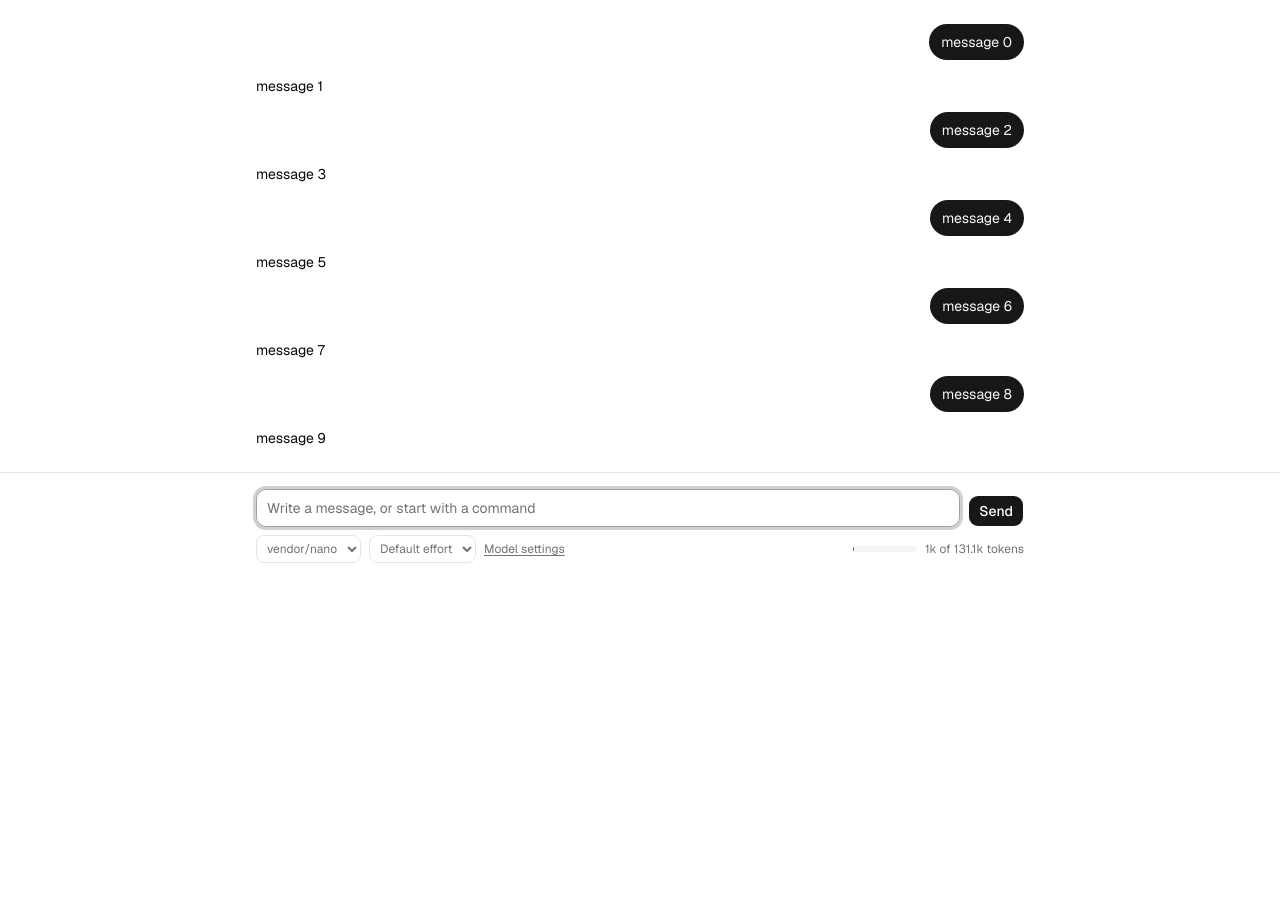
Test: the compact suggestion › appears after the notice, never blocks sending, and starts /compact
Expected: the text "message 9" is shown, [256,428,326,448]
Type "more" into the text box labelled "message" at (608, 508), box [256,489,960,527]
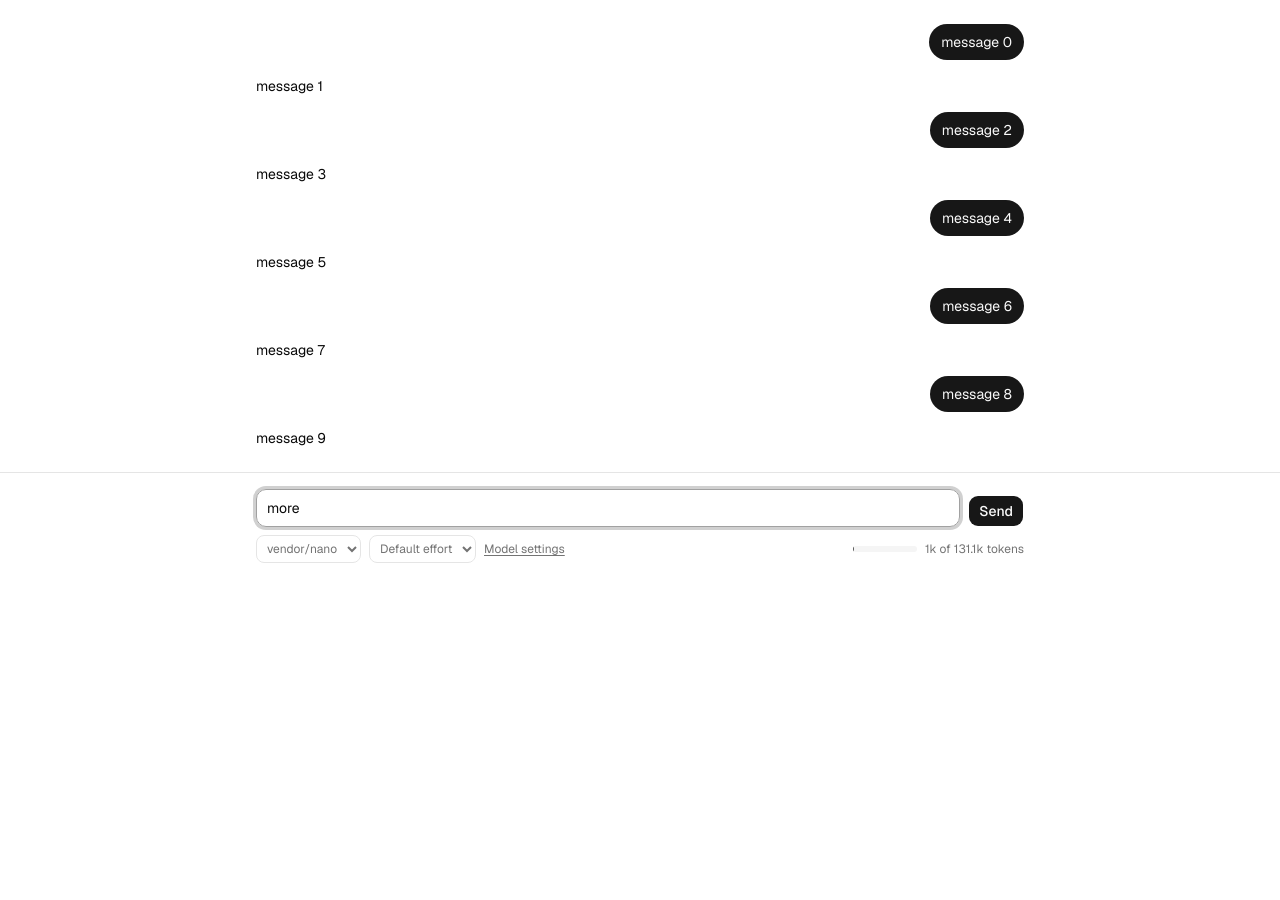
Click the button "Send" at (996, 511), box [968,495,1024,527]
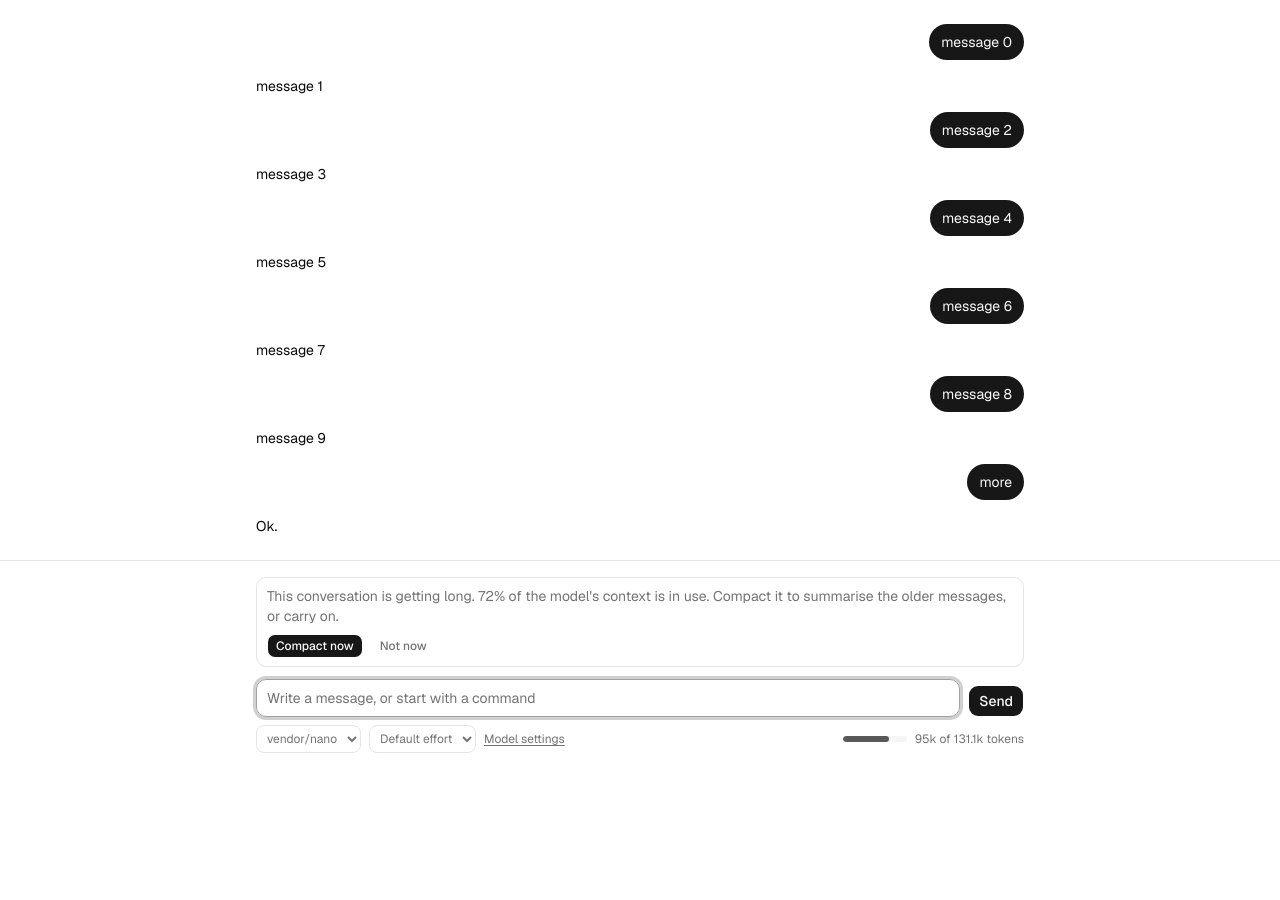
Expected: the text box labelled "message" is enabled, [256,679,960,717]
Expected: the text "This conversation is getting long. 72%" is shown, [267,586,1013,626]
Click the button "Compact now" at (315, 646), box [267,634,363,658]
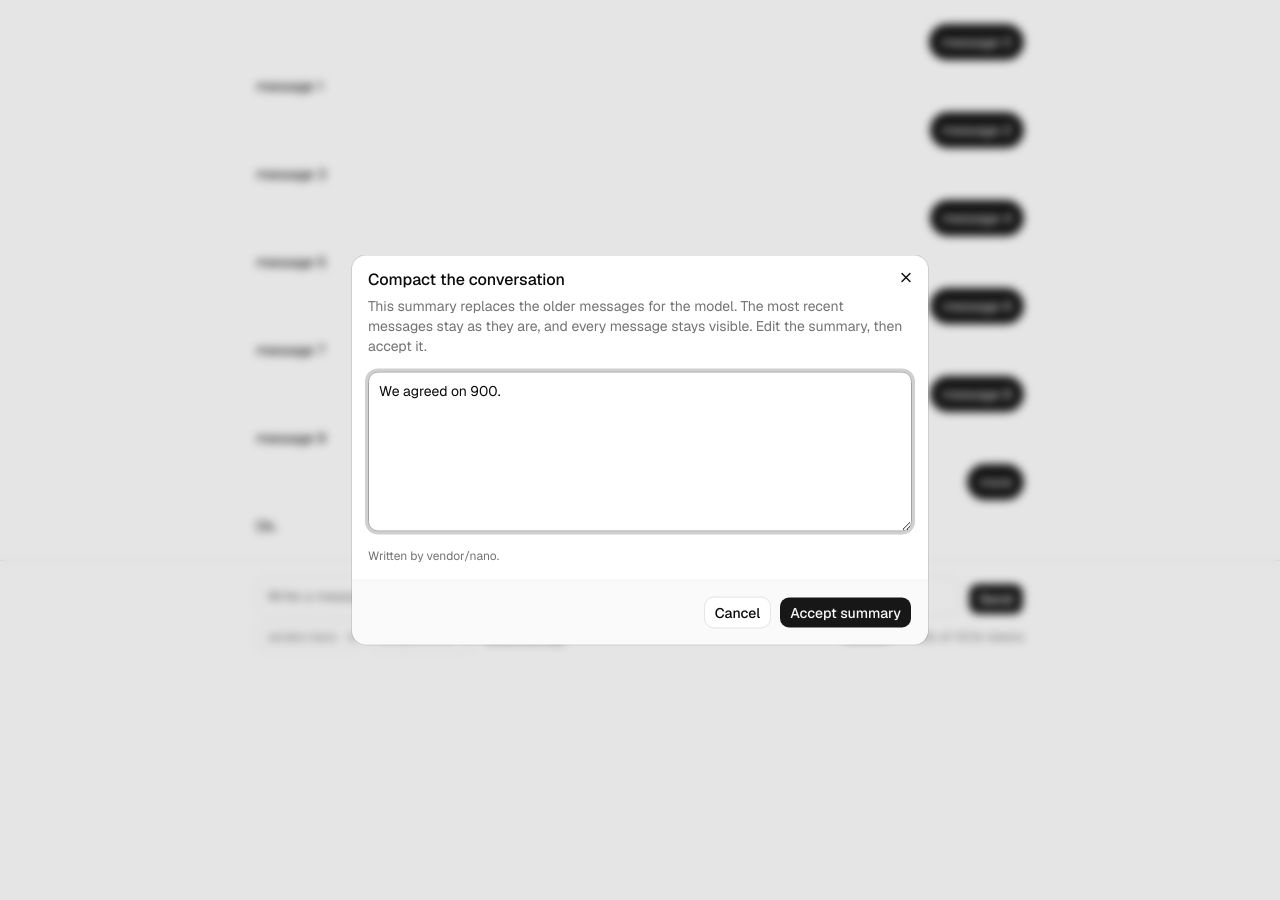
Expected: the text box named "Summary" holds "We agreed on 900.", [368,372,912,532]
